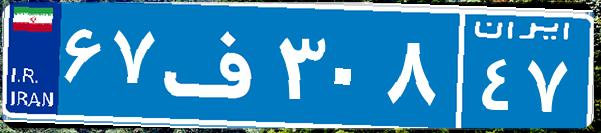0: (330, 28, 385, 110)
3: (273, 28, 330, 110)
4: (475, 38, 525, 113)
6: (57, 26, 110, 107)
7: (110, 28, 158, 105), (525, 38, 570, 115)
8: (385, 28, 445, 110)
ف: (158, 15, 273, 115)
